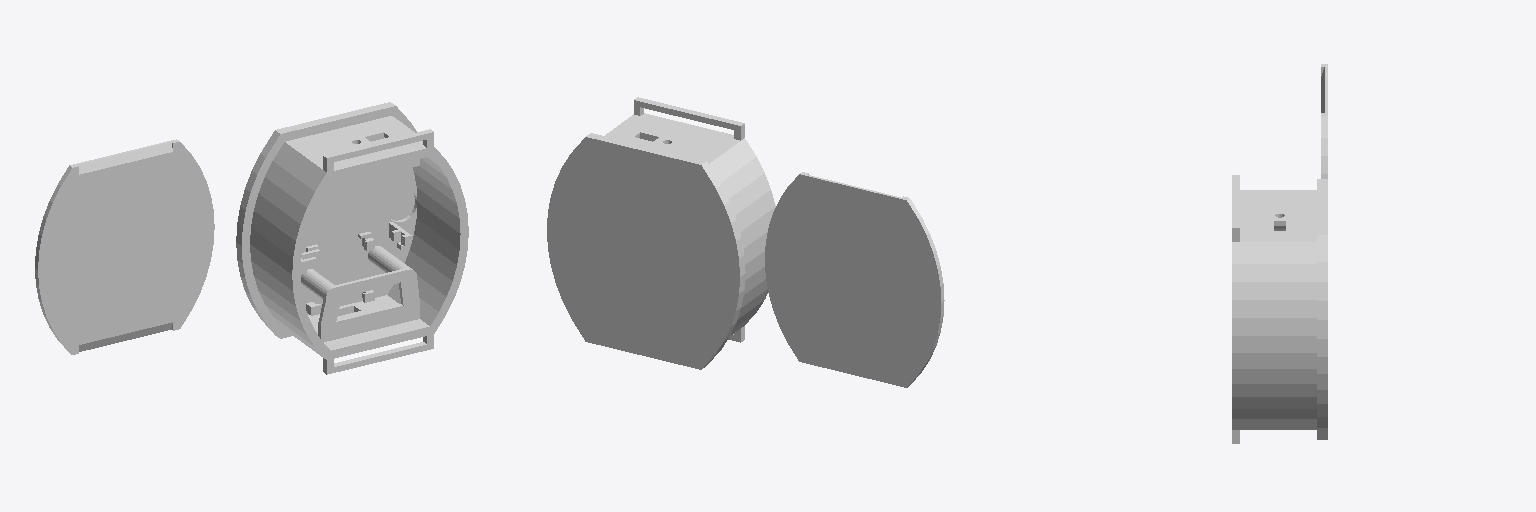
The model's file is CaseAndLidRev2.obj.
3 views of the same model, side by side, from view 1: azimuth 30°, elevation 25°; view 2: azimuth 150°, elevation 25°; view 3: azimuth 270°, elevation 25° (orthographic).
Parts seen in each view (by area): view 1: DefaultMaterial~1; view 2: DefaultMaterial~1; view 3: DefaultMaterial~1.
Boxes of the visible parts, x1=… form: DefaultMaterial~1: x1=35, y1=102, x2=468, y2=374; DefaultMaterial~1: x1=547, y1=97, x2=944, y2=387; DefaultMaterial~1: x1=1232, y1=64, x2=1327, y2=443.
Size of the model in its own units: 0.143 by 0.0781 by 0.03.